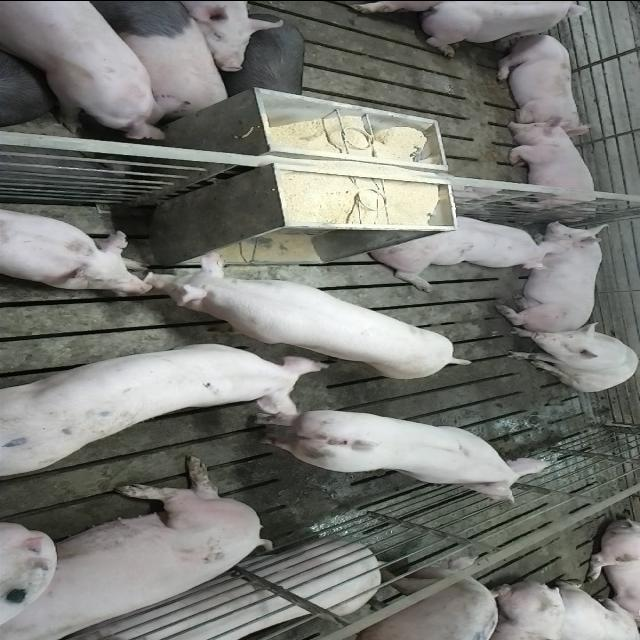Lateral_lying: (4, 452, 278, 636), (61, 538, 383, 640)
Sitting: (499, 322, 637, 391)
Standing: (5, 338, 337, 481), (153, 250, 467, 378), (253, 406, 558, 503), (0, 2, 178, 141), (74, 2, 233, 120), (291, 556, 497, 640)
Sternal_lying: (366, 210, 556, 284), (2, 202, 156, 290), (502, 220, 612, 327), (500, 117, 602, 216), (491, 30, 588, 132), (417, 2, 599, 56)
